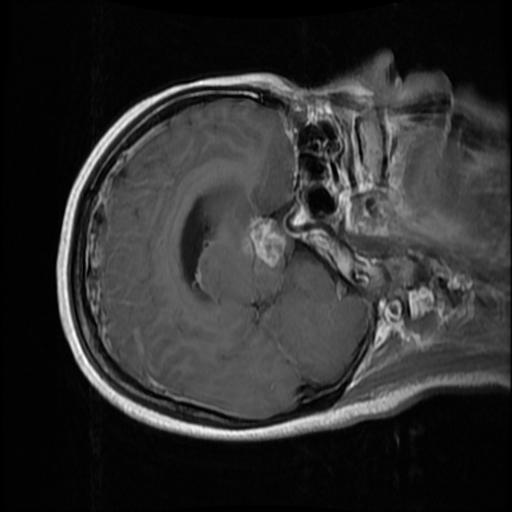glioma: (240, 215, 288, 266)
